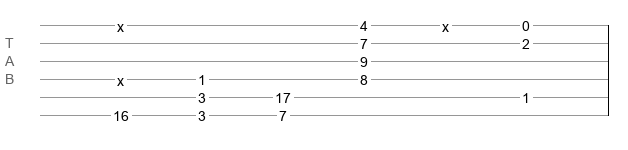0: (522, 18, 530, 28)
1: (198, 72, 206, 82), (522, 90, 530, 100)
16: (113, 108, 129, 118)
17: (275, 90, 291, 100)
2: (522, 36, 530, 46)
3: (198, 90, 206, 100), (198, 108, 206, 118)
4: (360, 18, 368, 28)
7: (279, 108, 287, 118), (360, 36, 368, 46)
8: (360, 72, 368, 82)
9: (360, 54, 368, 64)
x: (117, 73, 124, 81), (117, 19, 124, 27), (442, 19, 449, 27)
